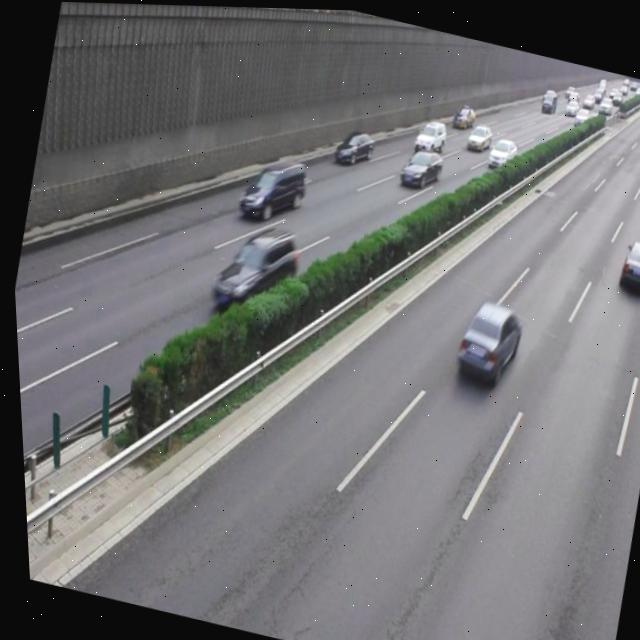car: (199, 212, 302, 323), (446, 290, 523, 383), (393, 141, 443, 190), (328, 122, 374, 169), (610, 233, 640, 292)
truck: (233, 145, 308, 225)
